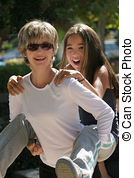face: (16, 18, 62, 70), (62, 24, 97, 69)
